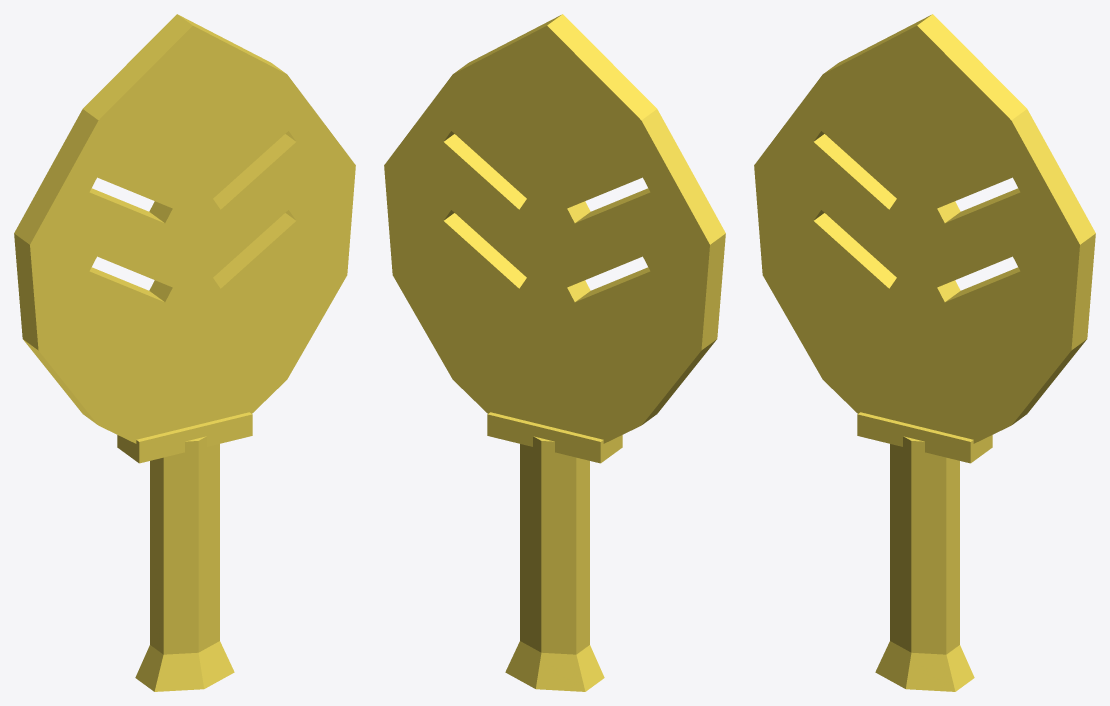
File: paddle_turbo.glb
3 views of the same model, side by side, from view 1: azimuth 30°, elevation 25°; view 2: azimuth 150°, elevation 25°; view 3: azimuth 330°, elevation 25° (orthographic).
Visible parts, largest first — view 1: paddle_turbo; view 2: paddle_turbo; view 3: paddle_turbo.
Boxes of the visible parts, <box> form: paddle_turbo: <box>14,14,355,691</box>; paddle_turbo: <box>384,14,725,691</box>; paddle_turbo: <box>754,14,1095,691</box>.
Bounding box in the file's own units: 1.9 × 3.65 × 0.3888.
